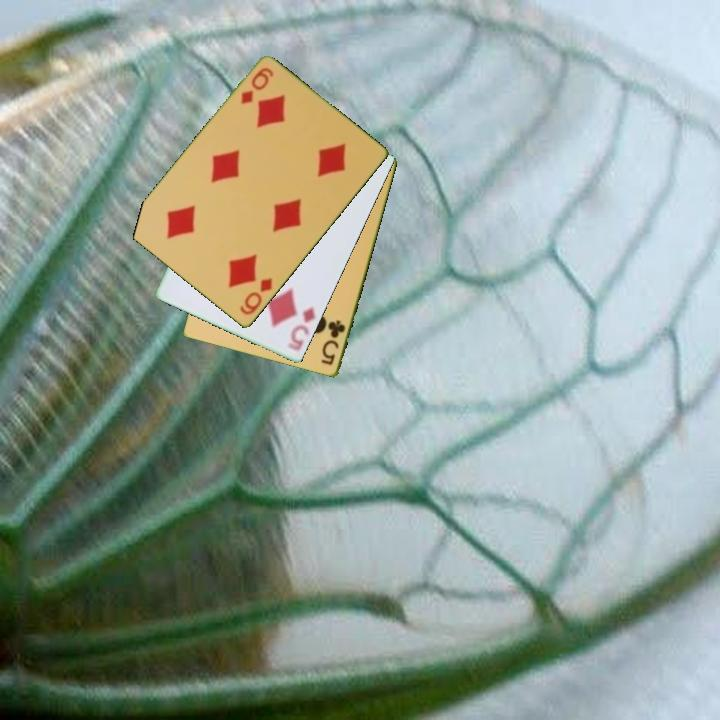5c: (318, 317, 349, 368)
5d: (284, 303, 318, 355)
6d: (236, 274, 275, 318), (237, 64, 276, 108)
